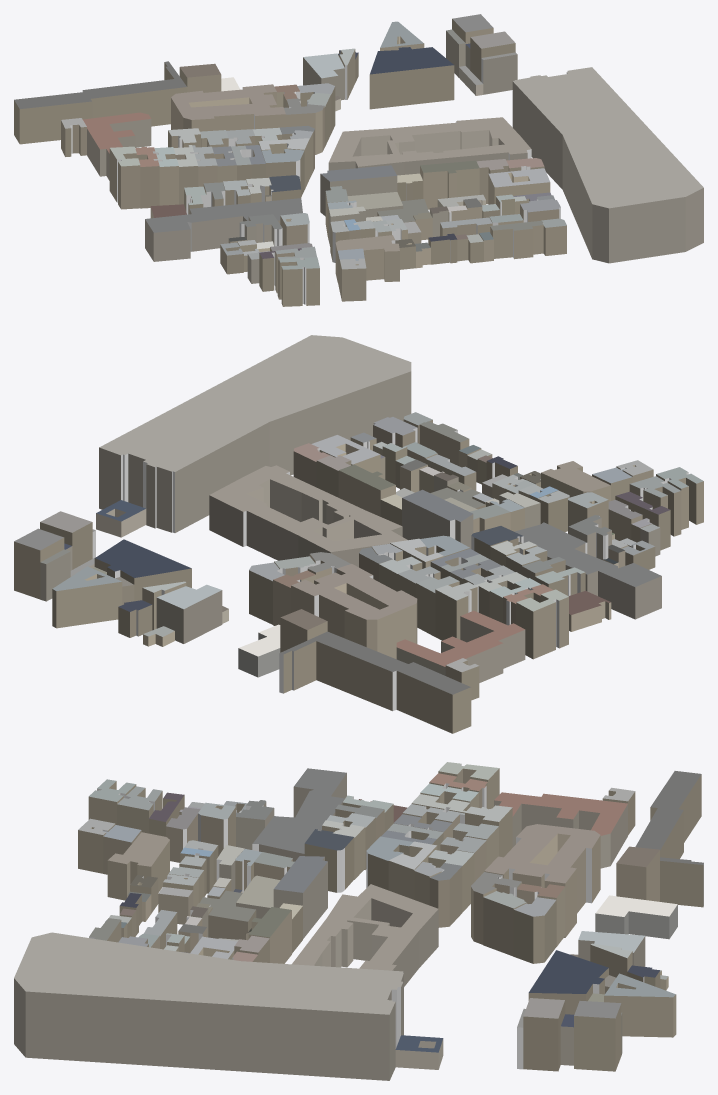
3 views of the same model, one above another, from view 1: azimuth 30°, elevation 25°; view 2: azimuth 150°, elevation 25°; view 3: azimuth 270°, elevation 25° (orthographic). The views are drawn at different scales.
Visible parts, largest first — view 1: tuile; view 2: tuile; view 3: tuile.
Part boxes in pixels (x1,y1,x2,y2): tuile: [14, 14, 703, 306]; tuile: [14, 335, 703, 733]; tuile: [14, 762, 703, 1080].
Bounding box in the file's own units: 281 × 31.95 × 296.
